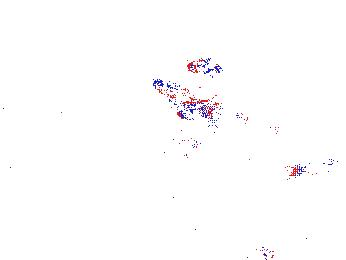X-ray fish: (131, 145, 165, 193), (159, 126, 201, 158), (249, 242, 272, 260)
red belly glassfish: (186, 56, 225, 75), (179, 98, 219, 112)
redtail glassfish: (152, 75, 213, 116), (236, 110, 283, 142), (293, 155, 346, 181)
